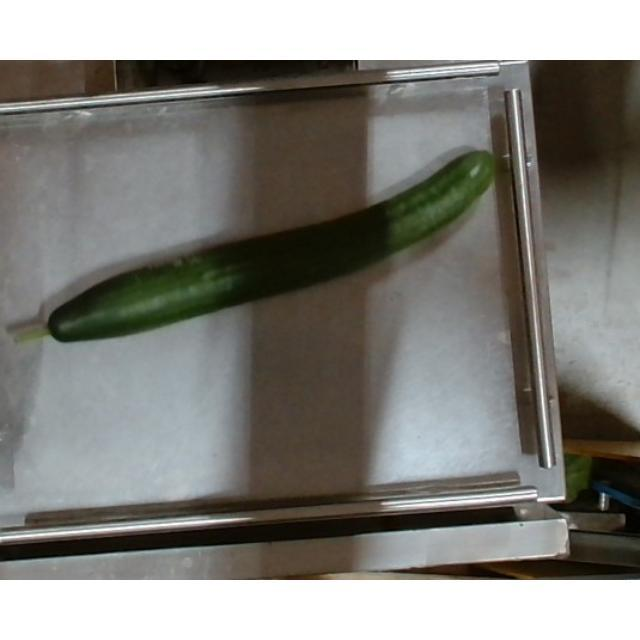cucumber: (26, 138, 500, 342)
